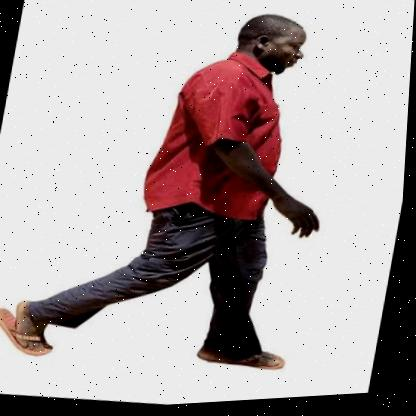person: (0, 0, 365, 408)
